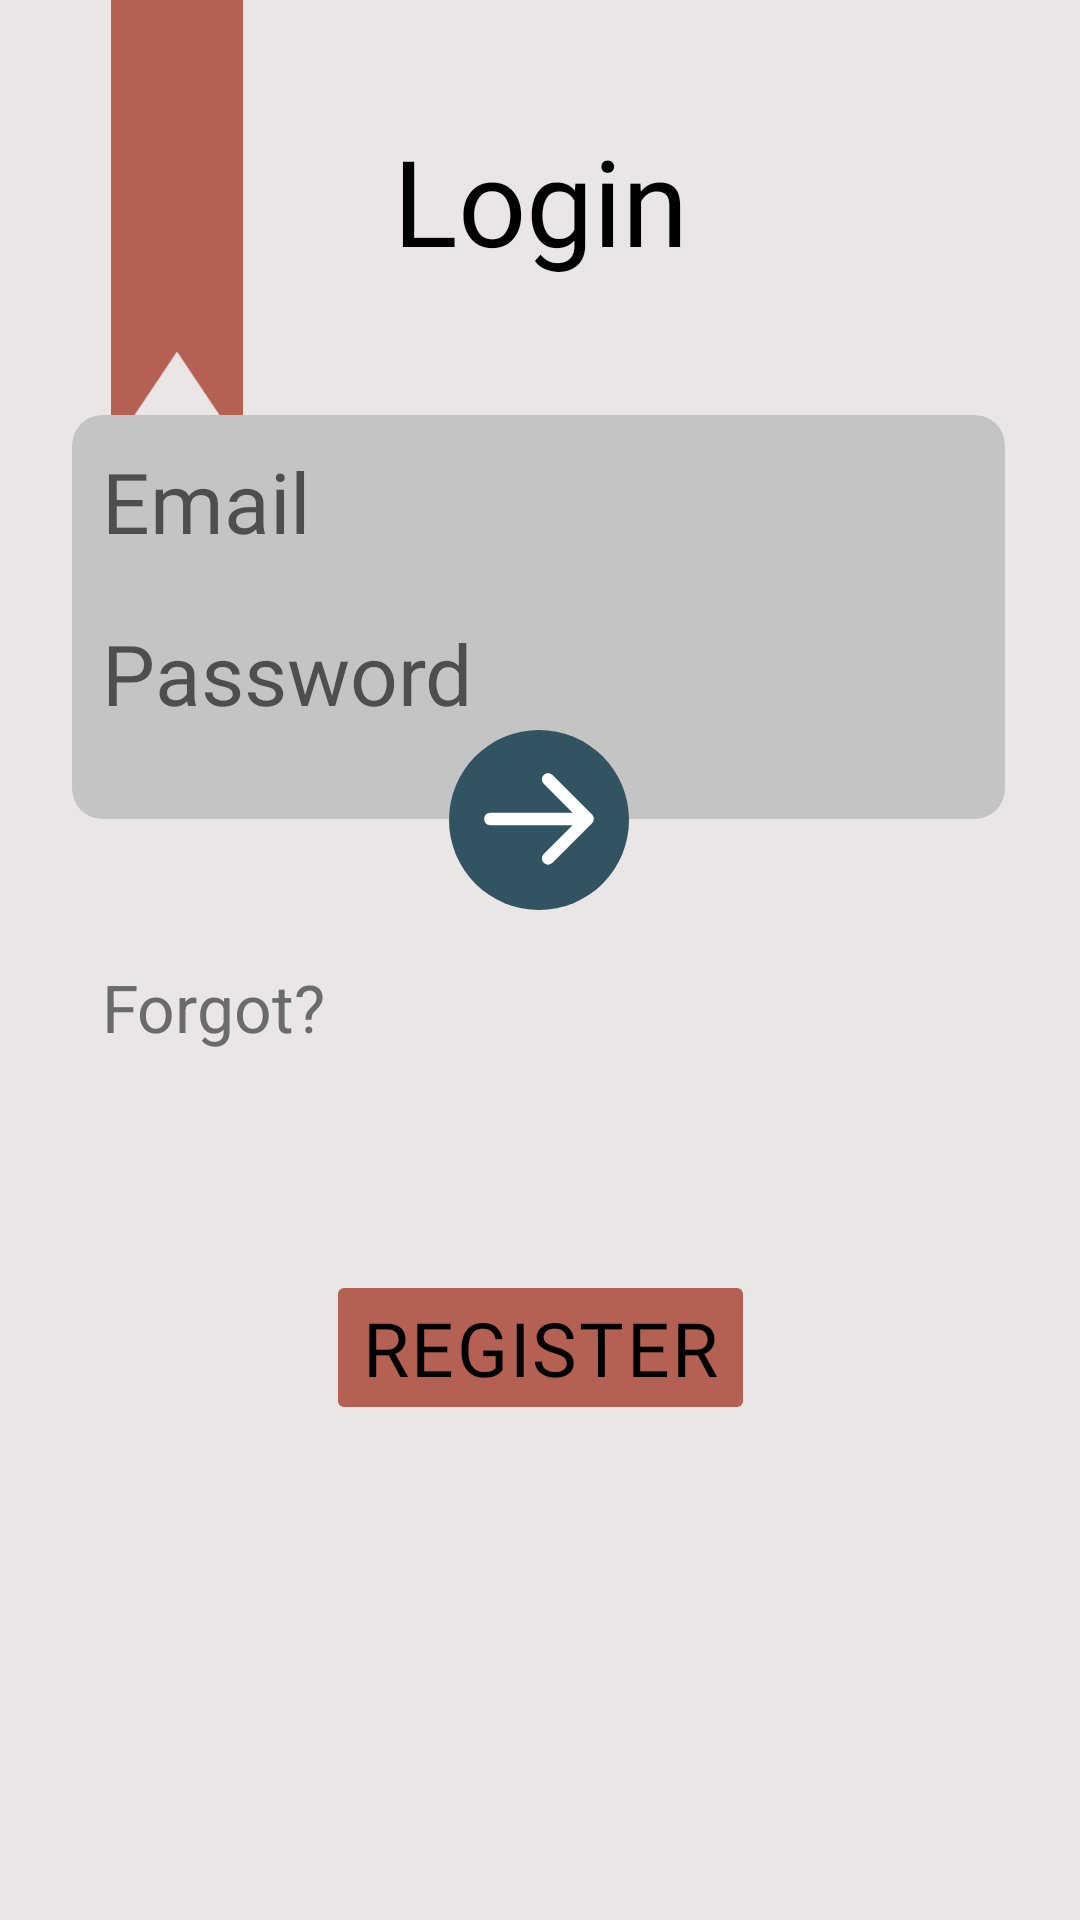

Icon click points for this 1080 x 1920 phone screenshot, format (x,y):
circle with arrow: (539,820)
